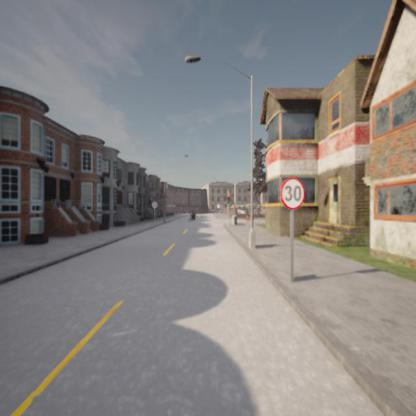traffic_sign_30: (280, 176, 306, 210)
